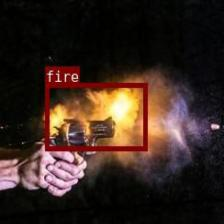fire: (45, 82, 146, 150)
